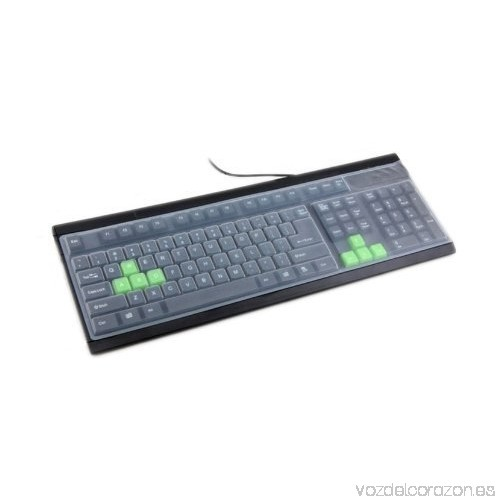Teclado: (50, 155, 459, 356)
